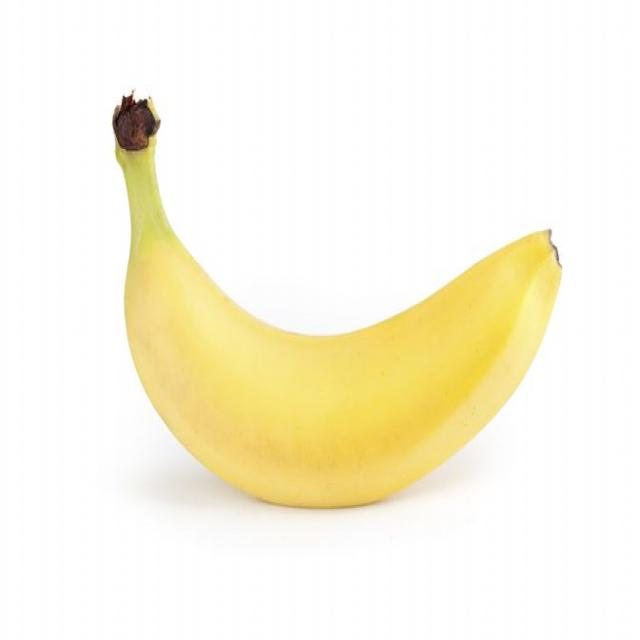banana: (103, 89, 569, 514)
